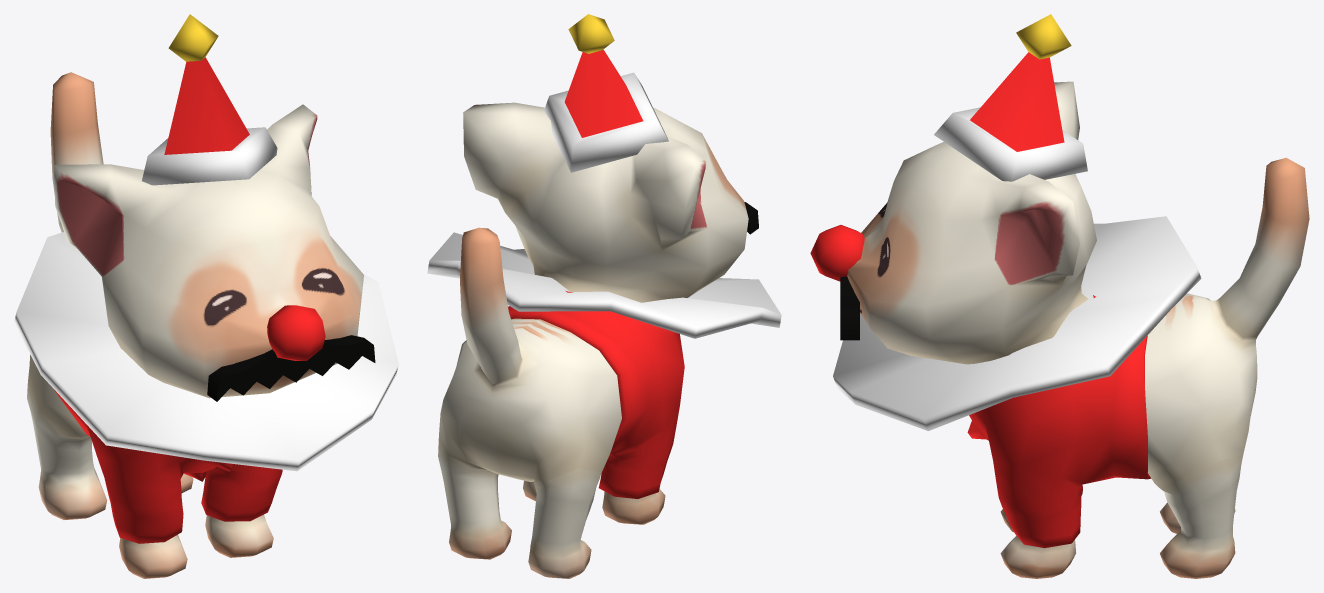
The model's file is Performer Cat02.fbx.
The picture shows the model from 3 angles, left to right: view 1: azimuth 30°, elevation 25°; view 2: azimuth 150°, elevation 25°; view 3: azimuth 270°, elevation 25°; orthographic projection. The views are drawn at different scales.
Visible parts, largest first — view 1: Cat_Base001, Performer_Cat_Neck, Performer_Cat_Shirt, Performer_Cat_Hat, Performer_Cat_Face; view 2: Cat_Base001, Performer_Cat_Shirt, Performer_Cat_Neck, Performer_Cat_Hat; view 3: Cat_Base001, Performer_Cat_Neck, Performer_Cat_Shirt, Performer_Cat_Hat, Performer_Cat_Face.
Boxes of the visible parts, <box> form: Cat_Base001: <box>27,72,363,578</box>; Performer_Cat_Neck: <box>14,232,398,471</box>; Performer_Cat_Shirt: <box>53,388,282,543</box>; Performer_Cat_Hat: <box>142,14,277,185</box>; Performer_Cat_Face: <box>207,305,375,401</box>; Cat_Base001: <box>438,102,748,578</box>; Performer_Cat_Shirt: <box>508,290,684,498</box>; Performer_Cat_Neck: <box>427,232,781,338</box>; Performer_Cat_Hat: <box>544,14,668,172</box>; Cat_Base001: <box>847,81,1309,578</box>; Performer_Cat_Neck: <box>833,216,1201,430</box>; Performer_Cat_Shirt: <box>967,295,1151,548</box>; Performer_Cat_Hat: <box>934,14,1087,181</box>; Performer_Cat_Face: <box>810,225,864,340</box>.
Bounding box in the file's own units: 2.3 × 2.99 × 3.53.
5 materials, 1 textured.
